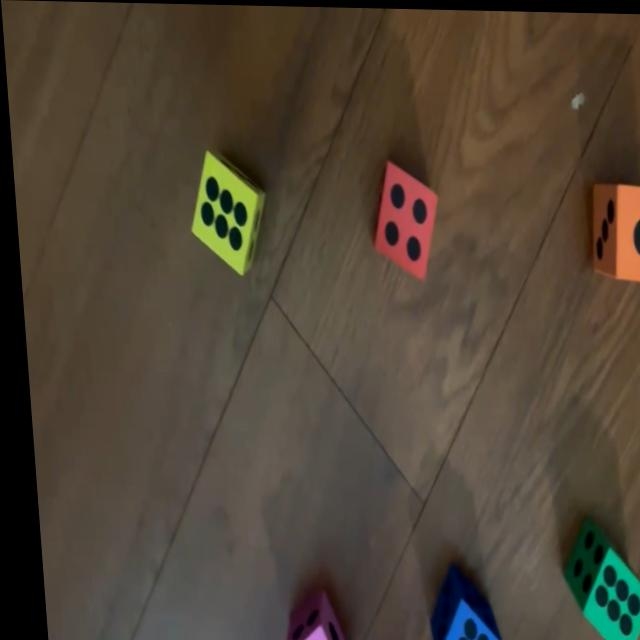blue_block: (417, 567, 493, 640)
red_block: (365, 158, 438, 278)
